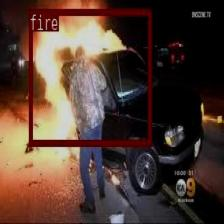fire: (28, 9, 151, 144)
